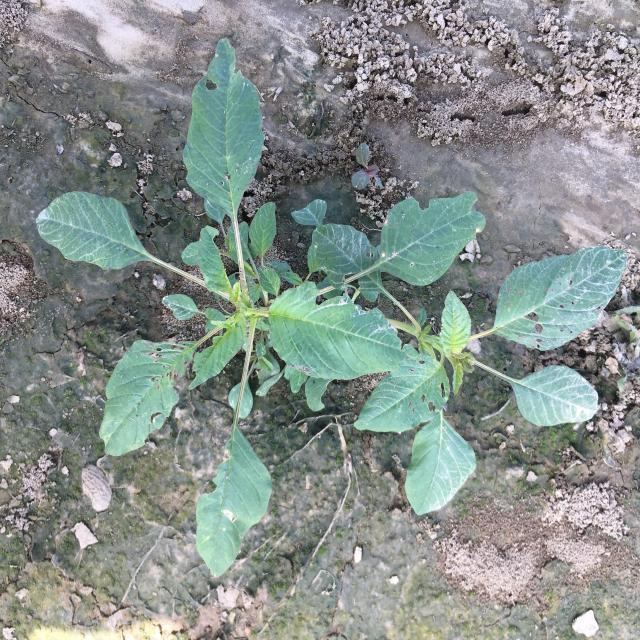PalmerAmaranth: (36, 38, 628, 578), (352, 143, 384, 190)
